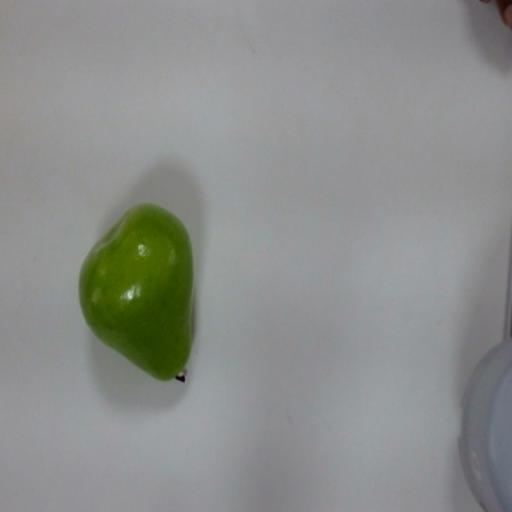Unripe: (76, 198, 210, 392)
